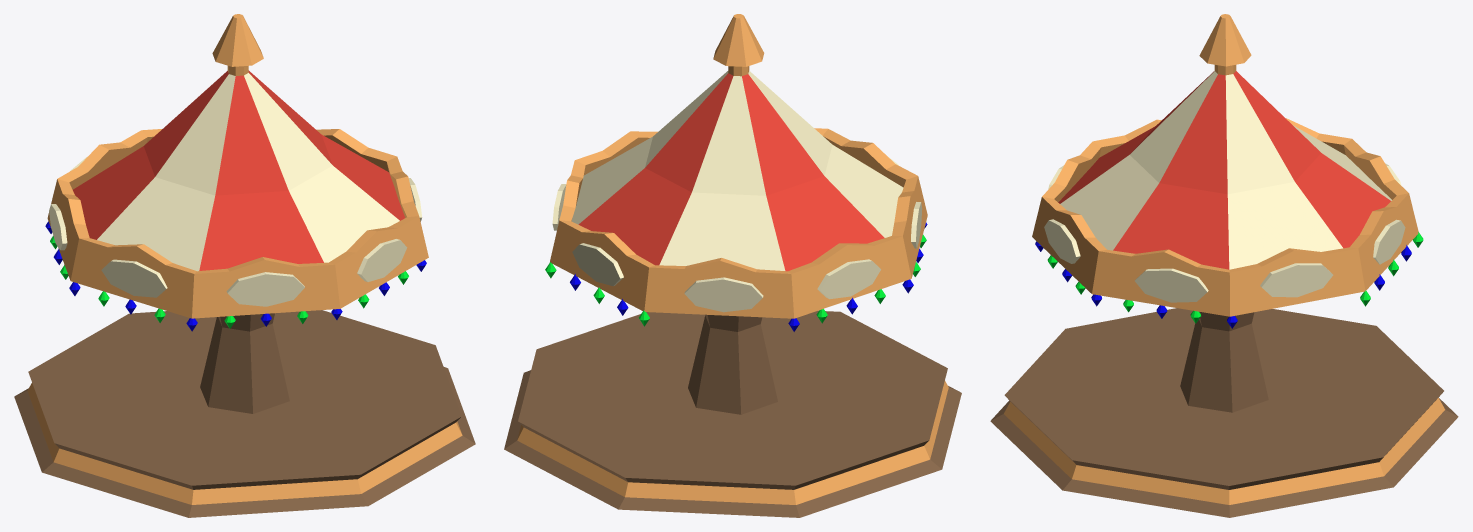
Rendered from CarouselBase.gltf.
The picture shows the model from 3 angles, left to right: view 1: azimuth 30°, elevation 25°; view 2: azimuth 150°, elevation 25°; view 3: azimuth 270°, elevation 25°; orthographic projection.
Visible parts, largest first — view 1: Carousel; view 2: Carousel; view 3: Carousel.
Boxes of the visible parts, bbox=[...] form: Carousel: bbox=[14, 14, 475, 517]; Carousel: bbox=[504, 14, 961, 517]; Carousel: bbox=[990, 14, 1458, 517].
Size of the model in its own units: 5.65 by 5.32 by 5.65.
Materials: 1 (1 with a texture image).
